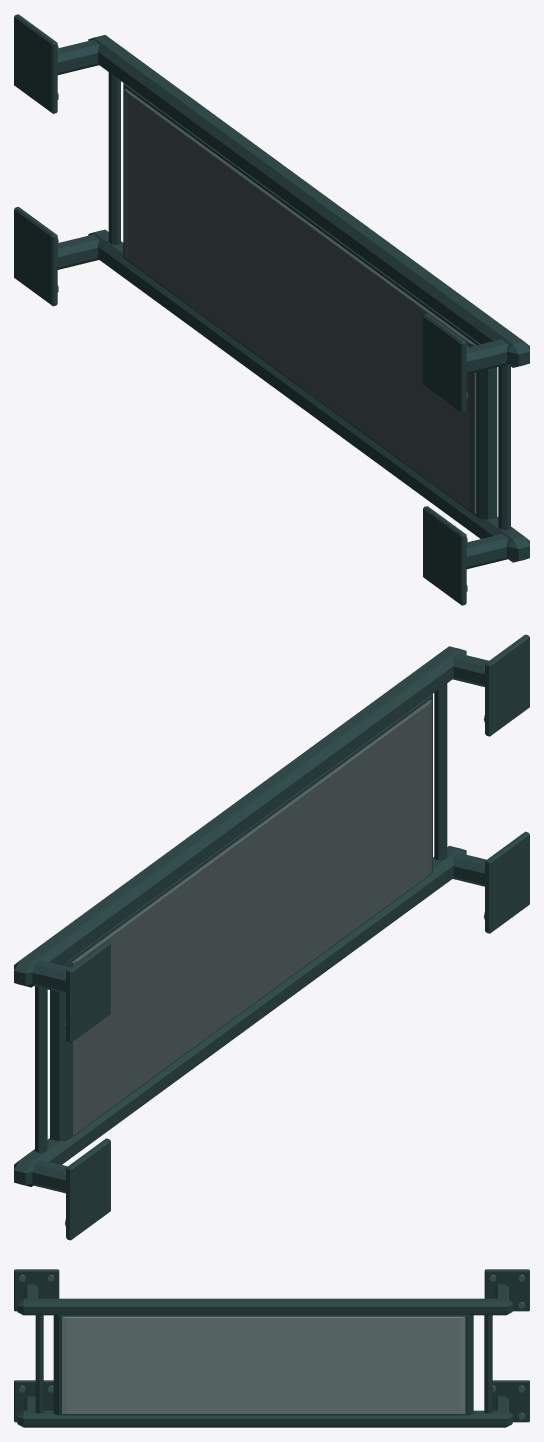
The model's file is signboard thin horizontal.fbx.
The picture shows the model from 3 angles, top to bottom: view 1: azimuth 30°, elevation 25°; view 2: azimuth 150°, elevation 25°; view 3: azimuth 270°, elevation 25°; orthographic projection. The views are drawn at different scales.
Parts seen in each view (by area): view 1: polySurface56; view 2: polySurface56; view 3: polySurface56.
Part boxes in pixels (x1,y1,x2,y2): polySurface56: (14,14,529,605); polySurface56: (14,634,529,1240); polySurface56: (14,1269,529,1427).
Bounding box in the file's own units: 0.1685 × 0.5516 × 1.7.
